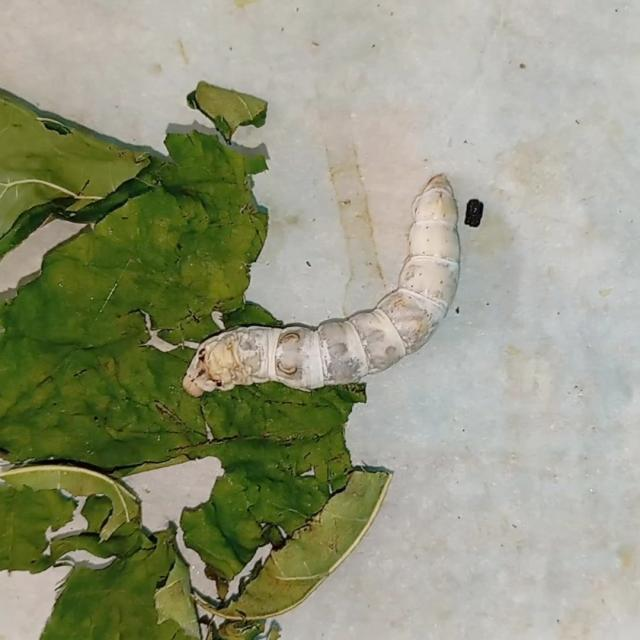Grasserie: (165, 168, 478, 421)
